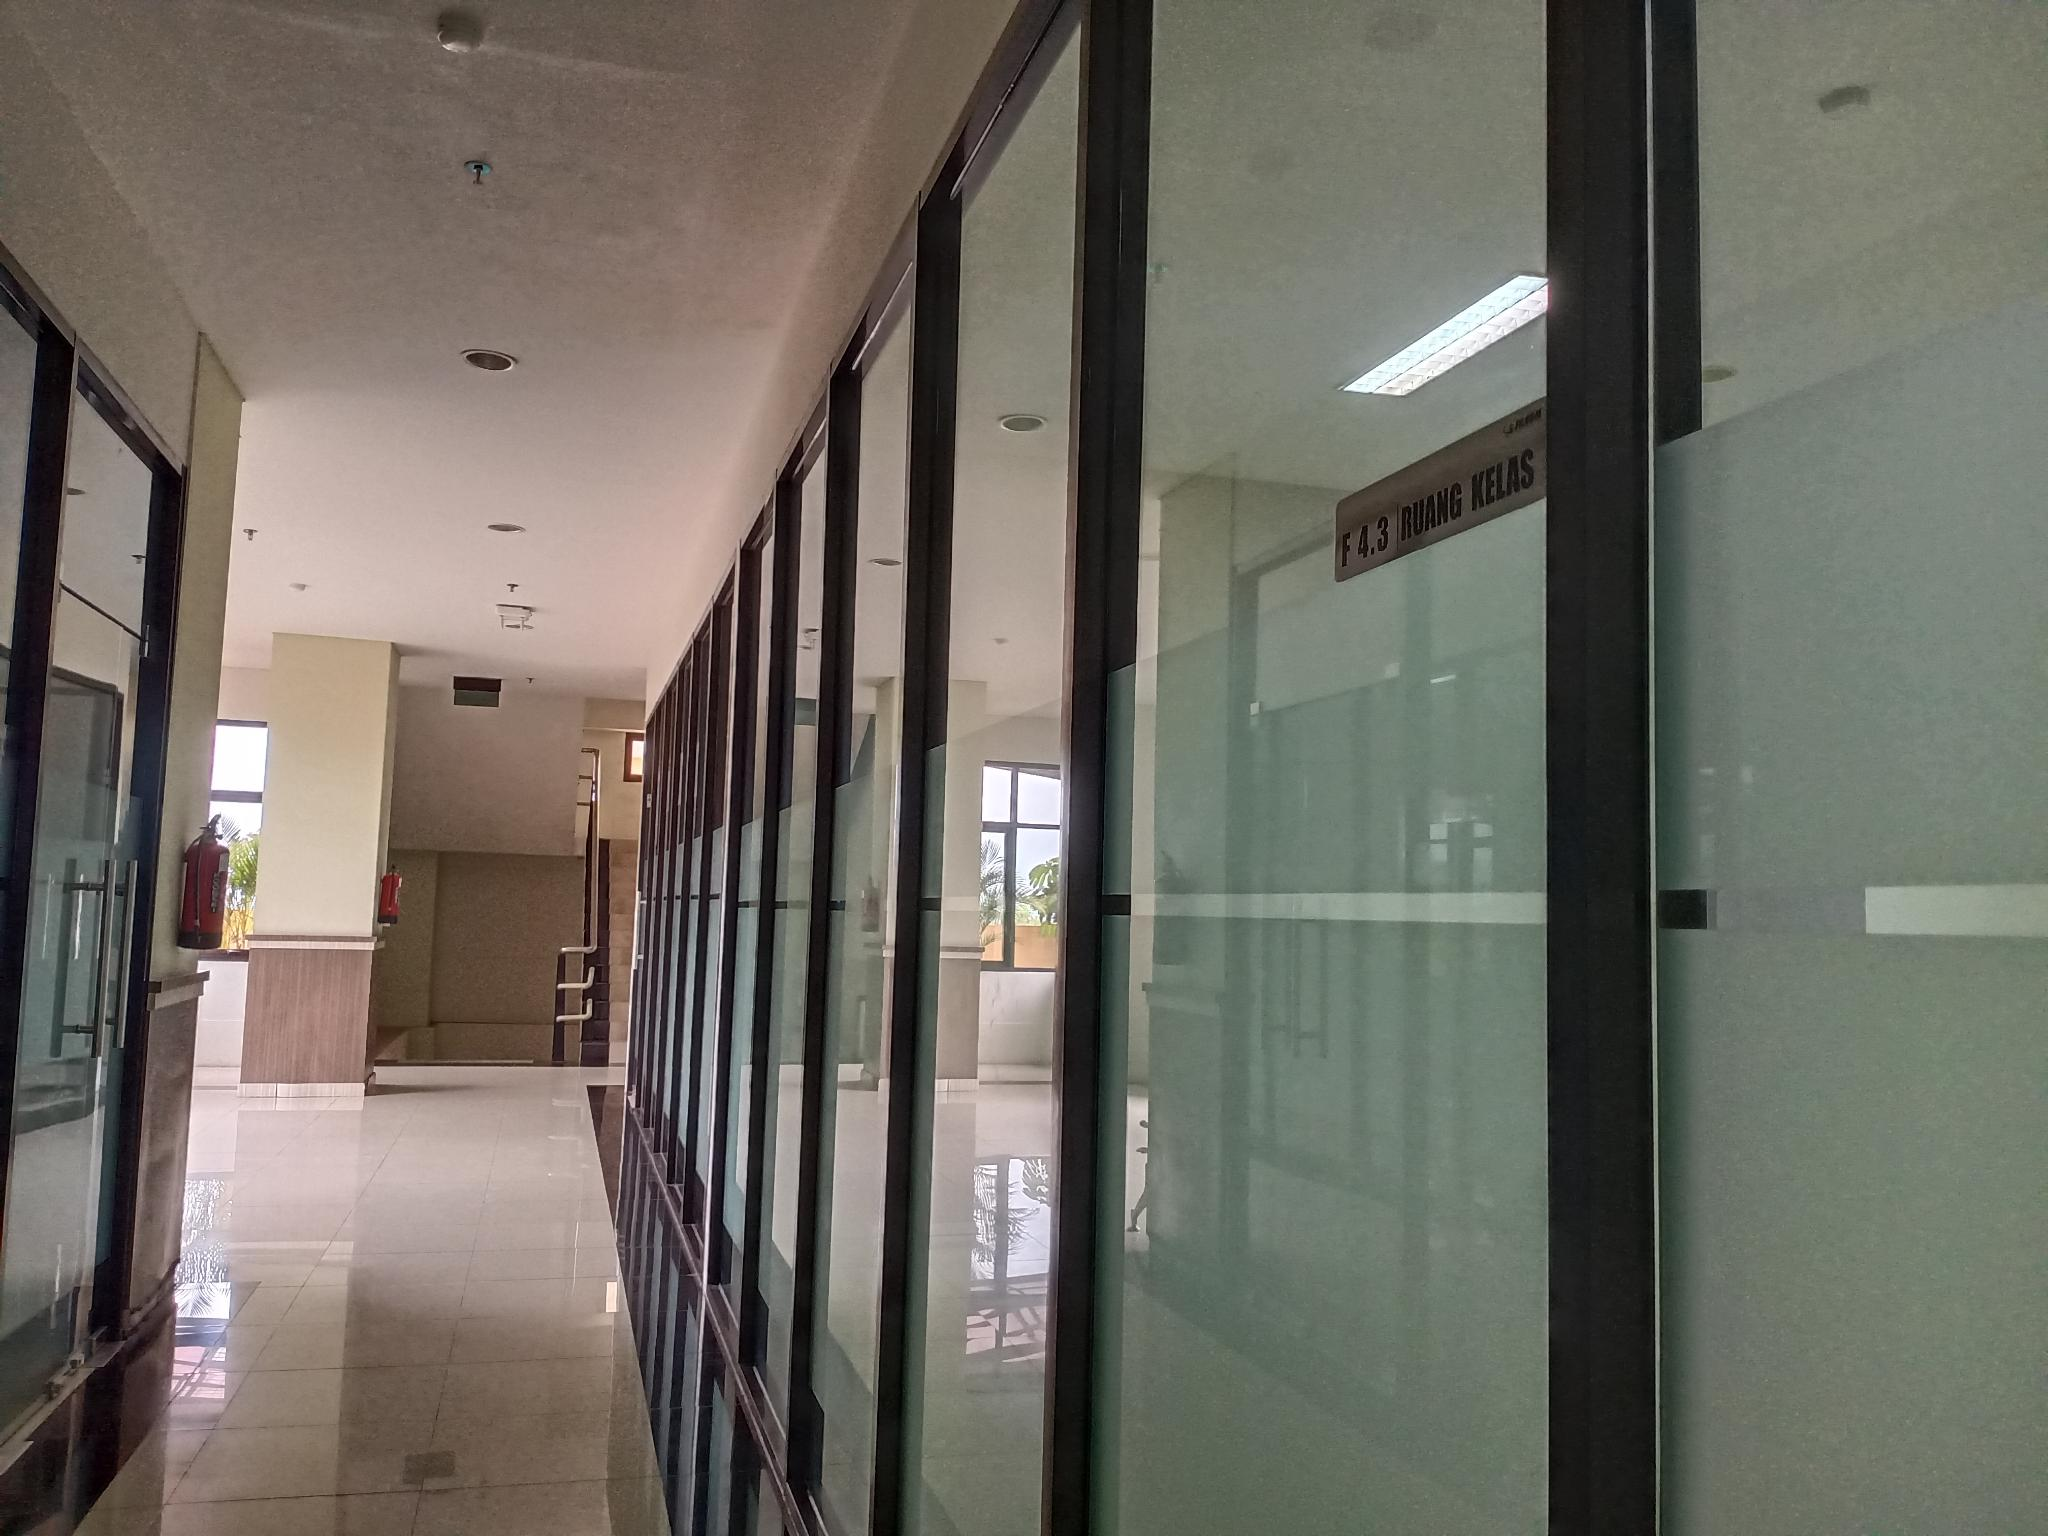plate: (1334, 397, 1546, 584)
